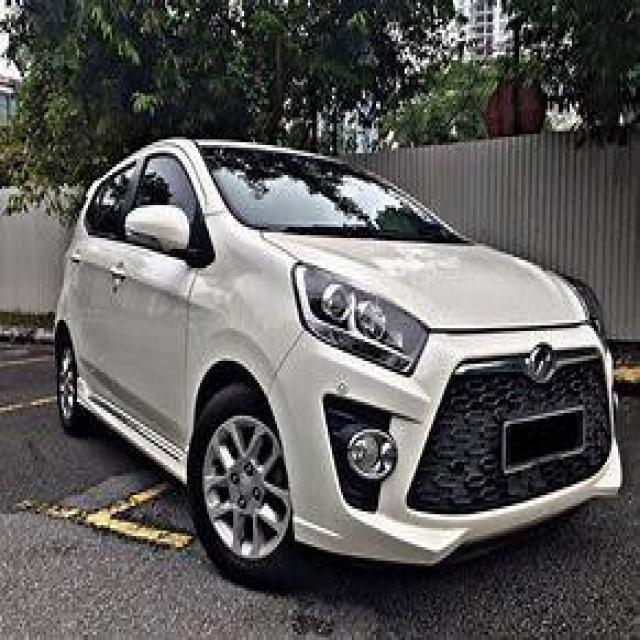PeroduaAxia: (50, 134, 624, 590)
